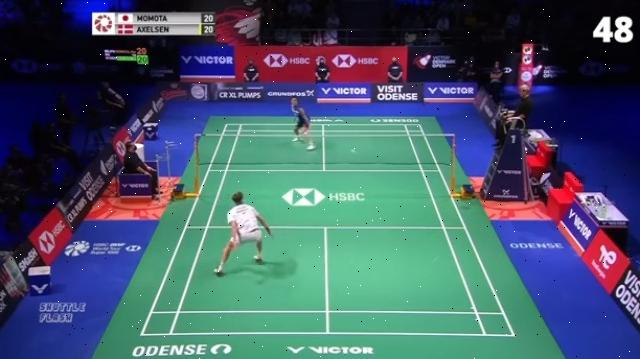Shuttlecock: (348, 147, 358, 154)
